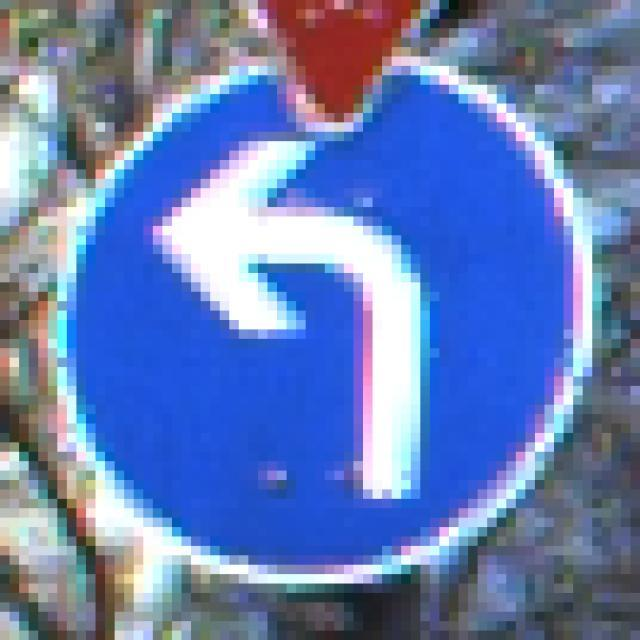compulsary turn left ahead: (58, 53, 599, 589)
